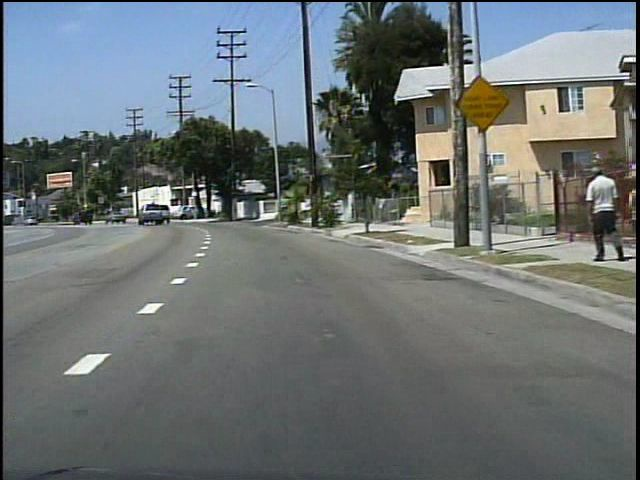person: (577, 164, 622, 264)
